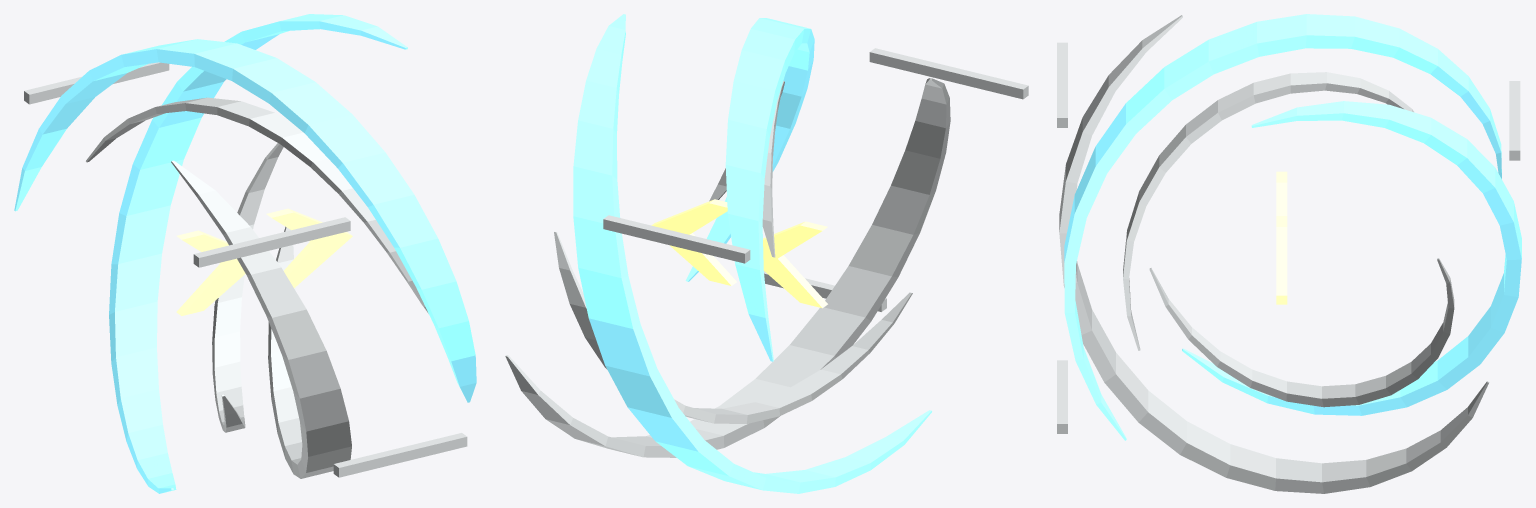
Rendered from ENV_RafagaViento.fbx.
3 renders of one model, left to right at view 1: azimuth 30°, elevation 25°; view 2: azimuth 150°, elevation 25°; view 3: azimuth 270°, elevation 25°, orthographic.
Parts seen in each view (by area): view 1: ENV_RafagaViento; view 2: ENV_RafagaViento; view 3: ENV_RafagaViento.
Boxes of the visible parts, x1=… form: ENV_RafagaViento: x1=14, y1=14, x2=476, y2=493; ENV_RafagaViento: x1=505, y1=14, x2=1028, y2=493; ENV_RafagaViento: x1=1057, y1=14, x2=1521, y2=493.
Bounding box in the file's own units: 2.61 × 3.38 × 3.39.
